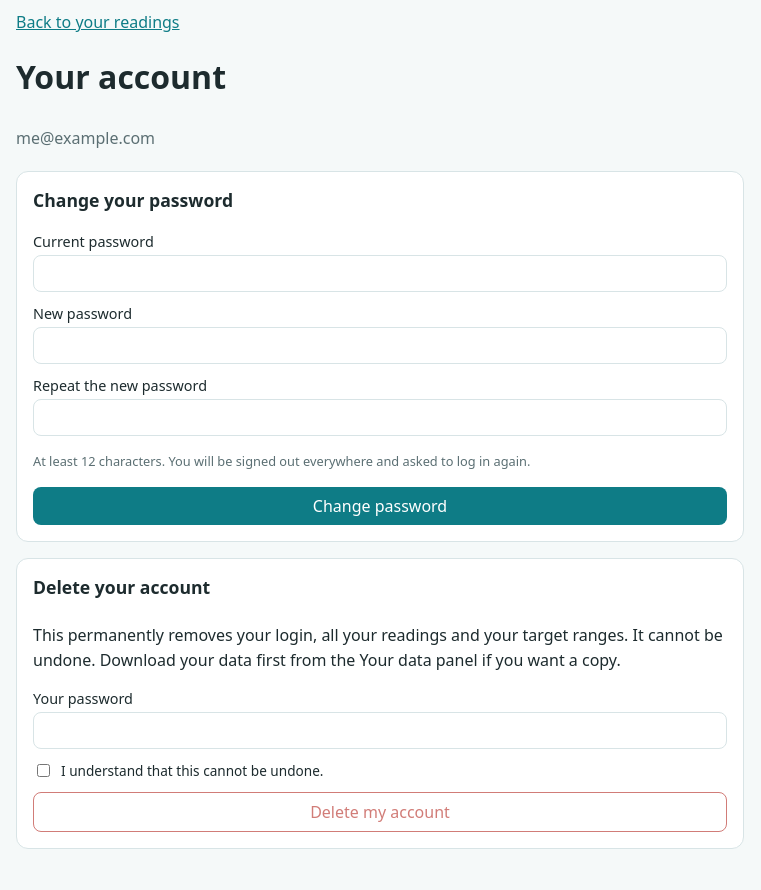
Scenario: AccountPage: changing the password › does not send anything when the new passwords differ
Type "Old-Passw0rd-12345" into the password field labelled "Current password". click: {"x": 380, "y": 273}
box: [33,255,727,292]
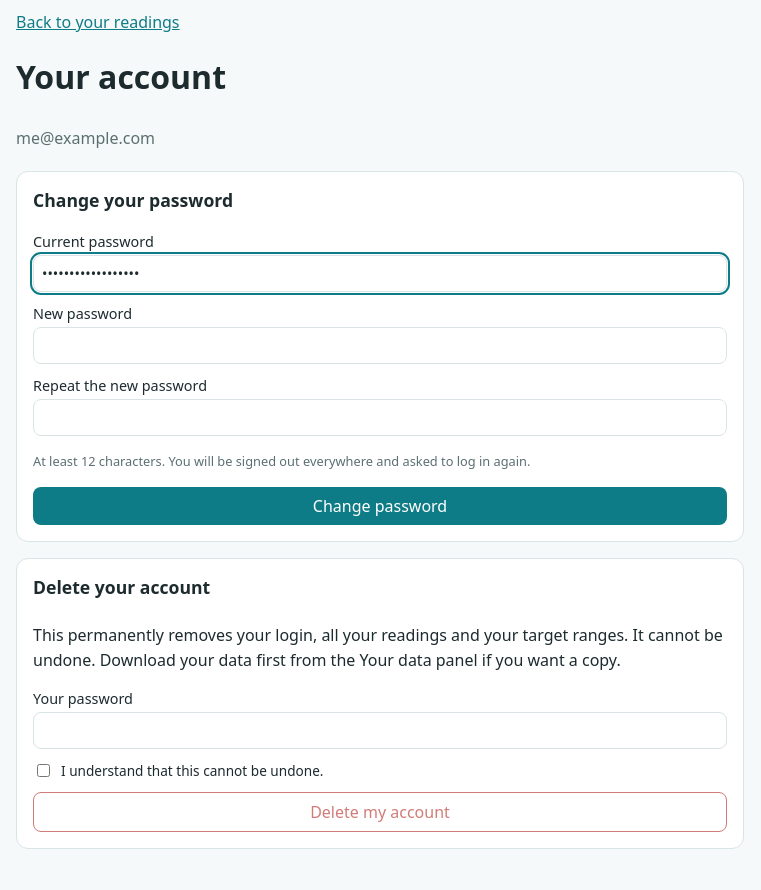
Type "Brand-New-Passw0rd-1" into the password field labelled "New password". click: {"x": 380, "y": 345}
box: [33,327,727,364]
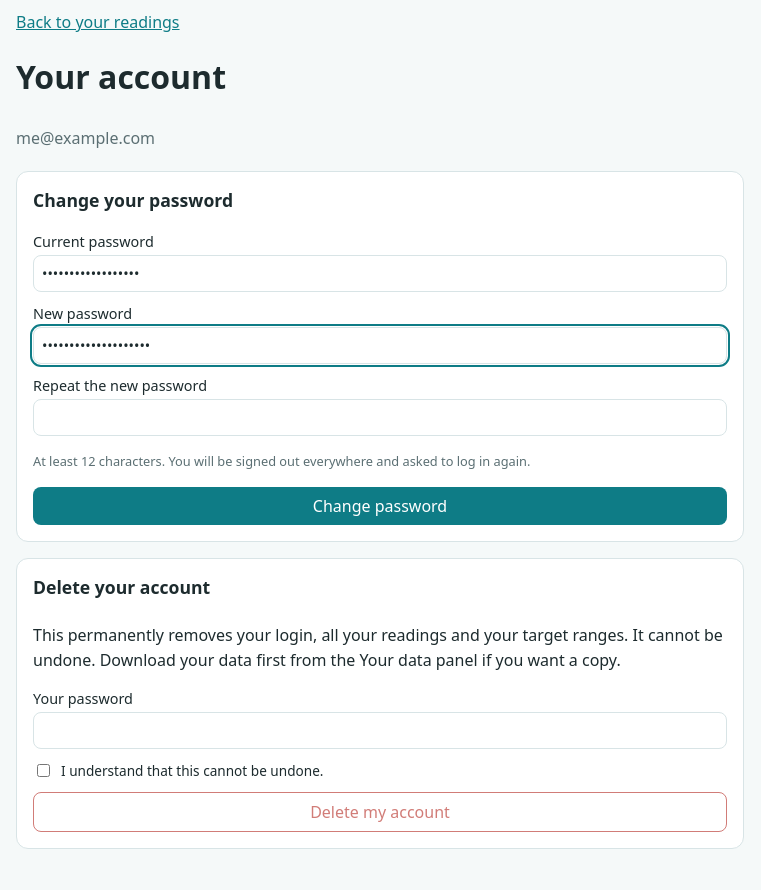
Type "Brand-New-Passw0rd-2" into the password field labelled "Repeat the new password". click: {"x": 380, "y": 417}
box: [33,399,727,436]
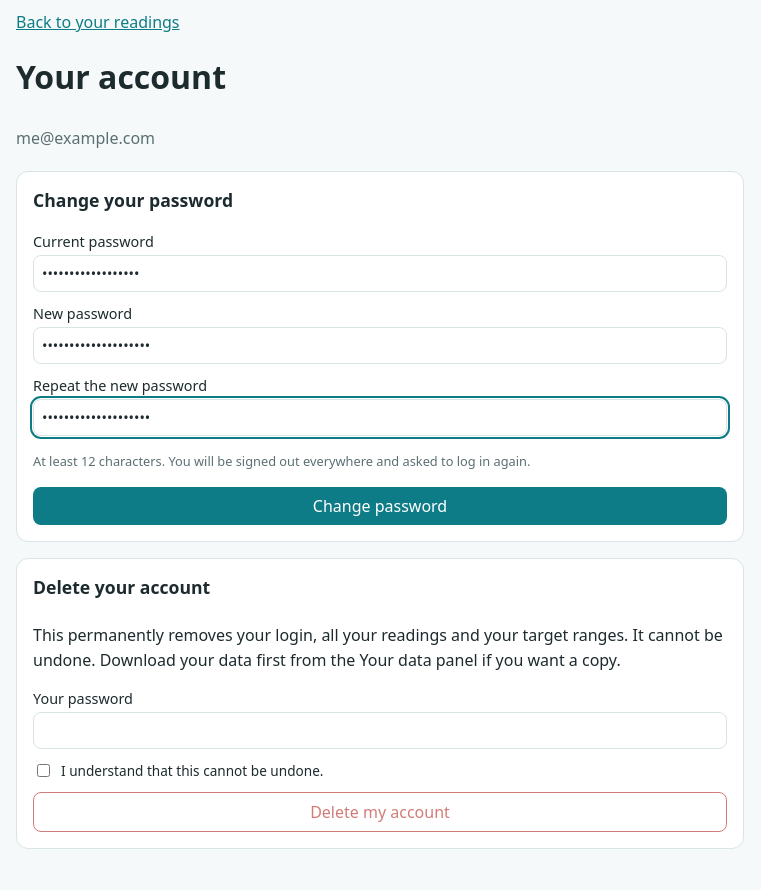
Click the button "Change password". click: {"x": 380, "y": 506}
box: [33,487,727,525]
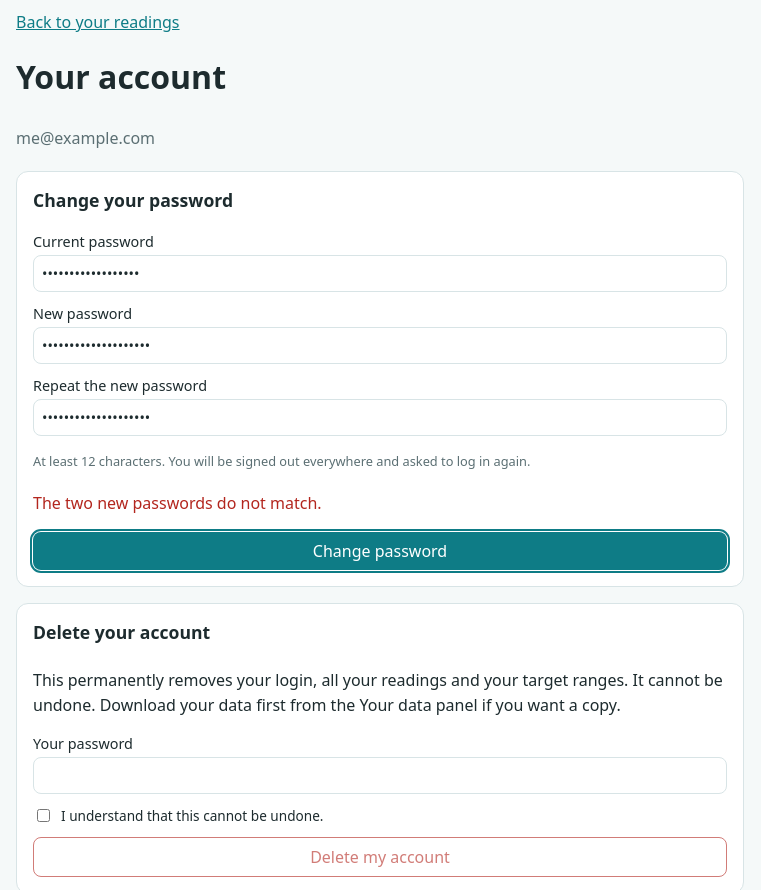
Result: the message shows "do not match" at [33,492,322,514]
